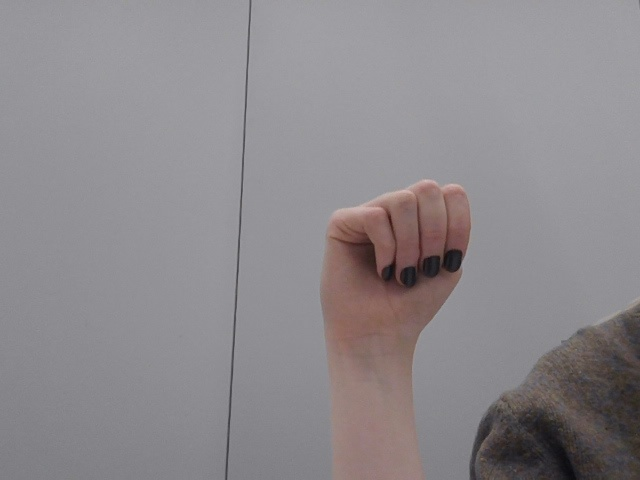down: (288, 174, 496, 379)
